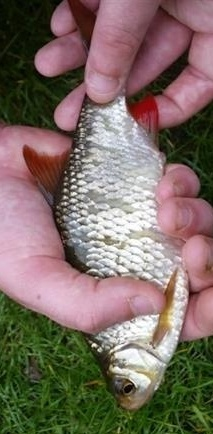Scardinius erythrophthalmus: (20, 1, 193, 414)
